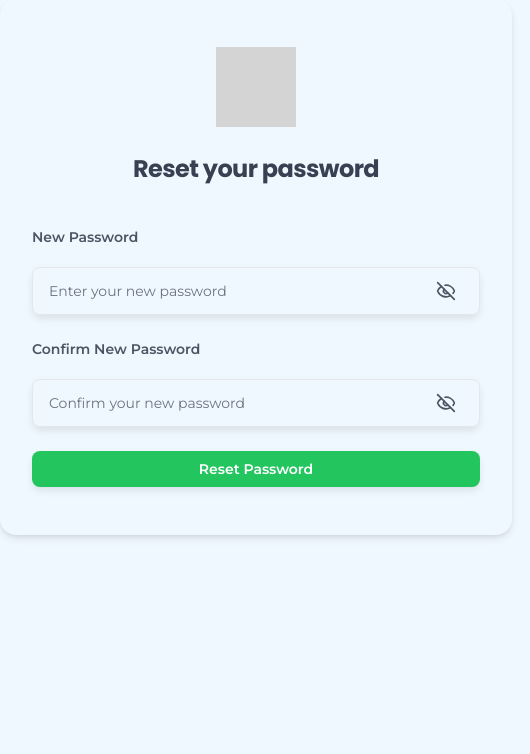
Test: ResetPasswordForm with valid token › shows validation error for short password
Type "short" into the password field labelled "New Password". click: (256, 291)
box: [32, 267, 480, 315]
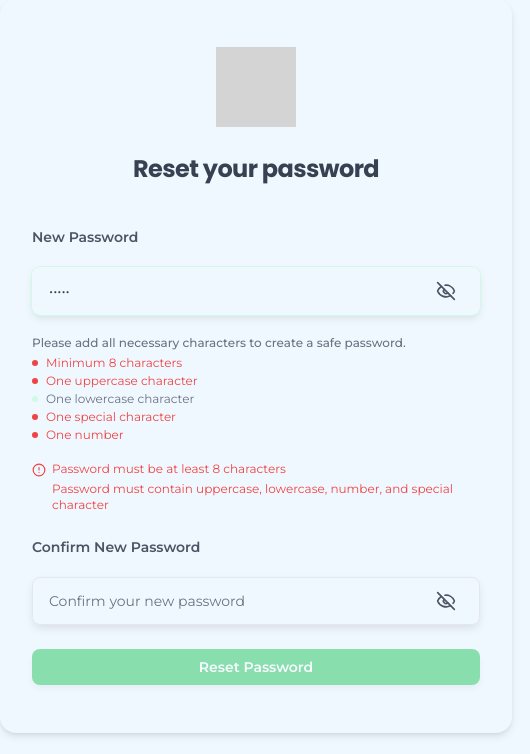
Check: the text "Password must be at least 8 characters" is shown, box [52, 461, 286, 476]
